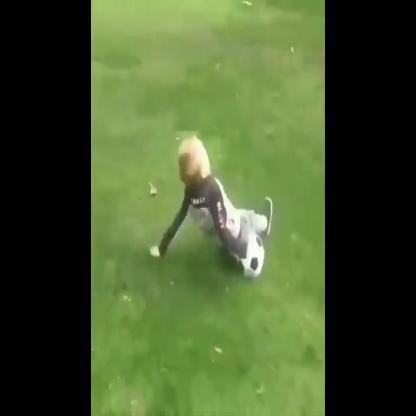Fall_Down: (147, 133, 275, 266)
